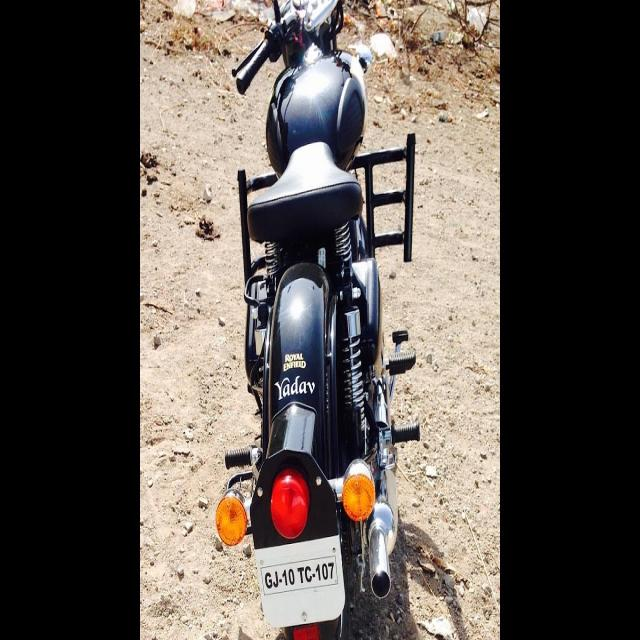license_plate: (254, 534, 346, 628)
